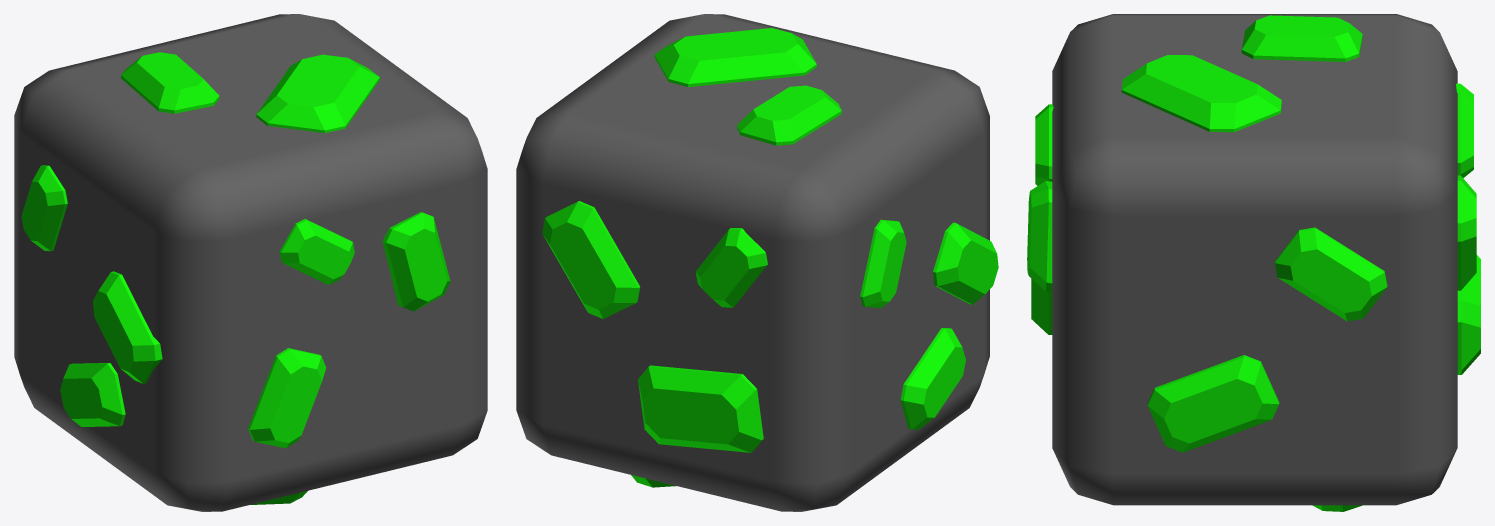
The model's file is SM_Emerald.fbx.
The picture shows the model from 3 angles, left to right: view 1: azimuth 30°, elevation 25°; view 2: azimuth 150°, elevation 25°; view 3: azimuth 270°, elevation 25°; orthographic projection. The views are drawn at different scales.
Visible parts, largest first — view 1: Cube.006; view 2: Cube.006; view 3: Cube.006.
Boxes of the visible parts, bbox=[...] form: Cube.006: bbox=[14, 14, 487, 511]; Cube.006: bbox=[516, 14, 998, 511]; Cube.006: bbox=[1027, 14, 1480, 511].
Size of the model in its own units: 220 by 226 by 224.
